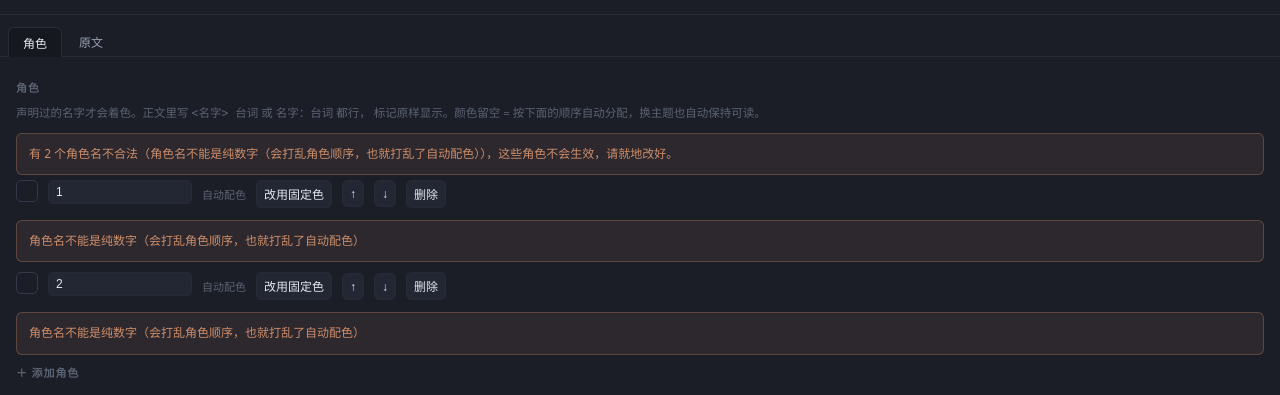
CharacterEditor › 多个坏名字可以逐个改好（每改一个都真的写回文件）
The width and height of the screenshot is (1280, 395).
Replace the text in the 1st field with "一号": (120, 192) [48,180,192,204]
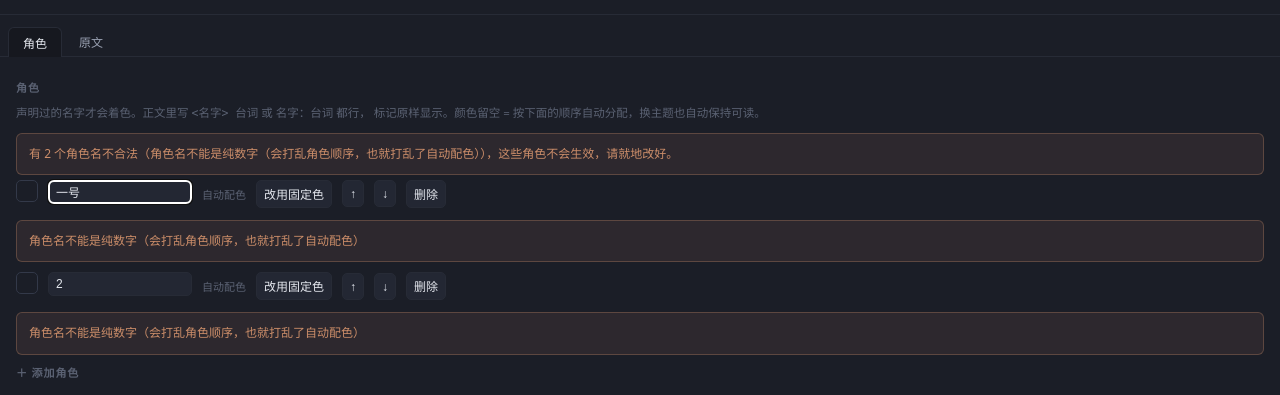
Press Tab
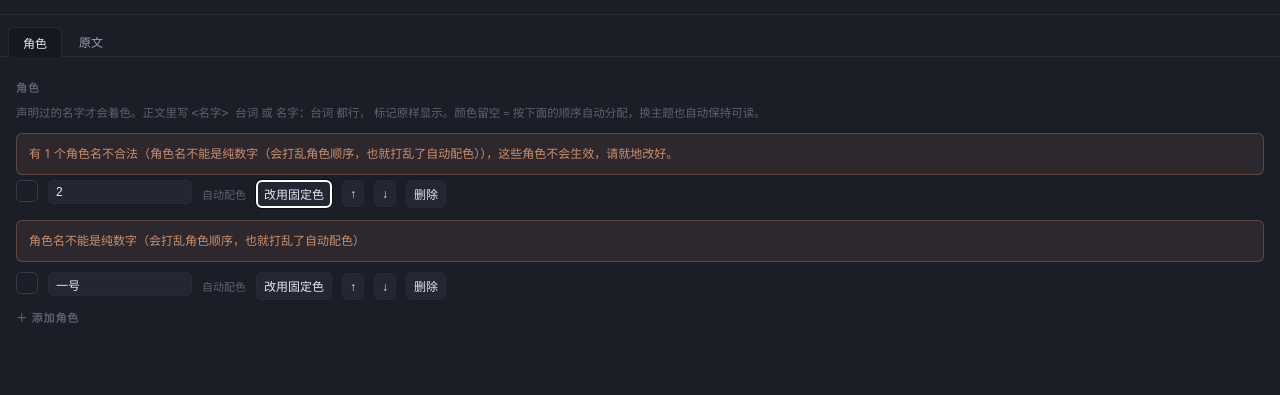
Replace the text in the 1st field with "二号": (120, 192) [48,180,192,204]
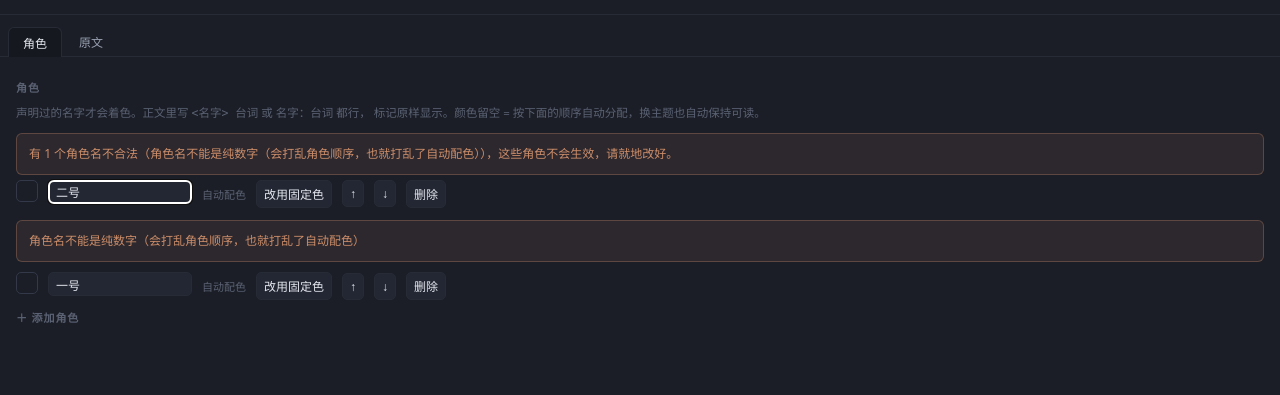
Press Tab
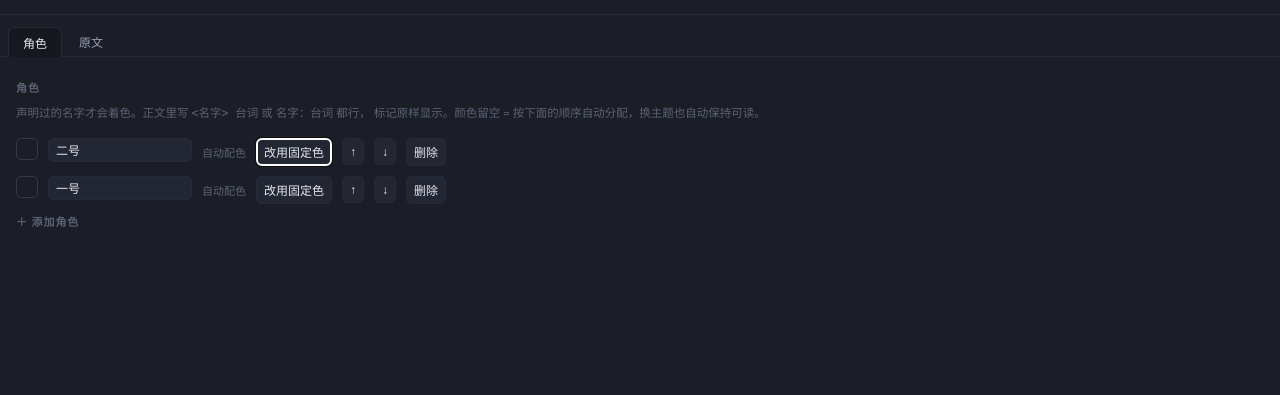
Expected: no messages are shown
